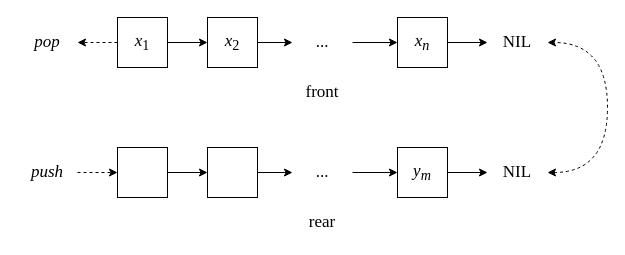
Some shapes in this 625 by 255 pixel diagram are drawn without their labels. Here are the shapes that lost their labels. From the top down, the centre of each, then its label:
the point at 142,172: y 1
the point at 232,172: y 2
